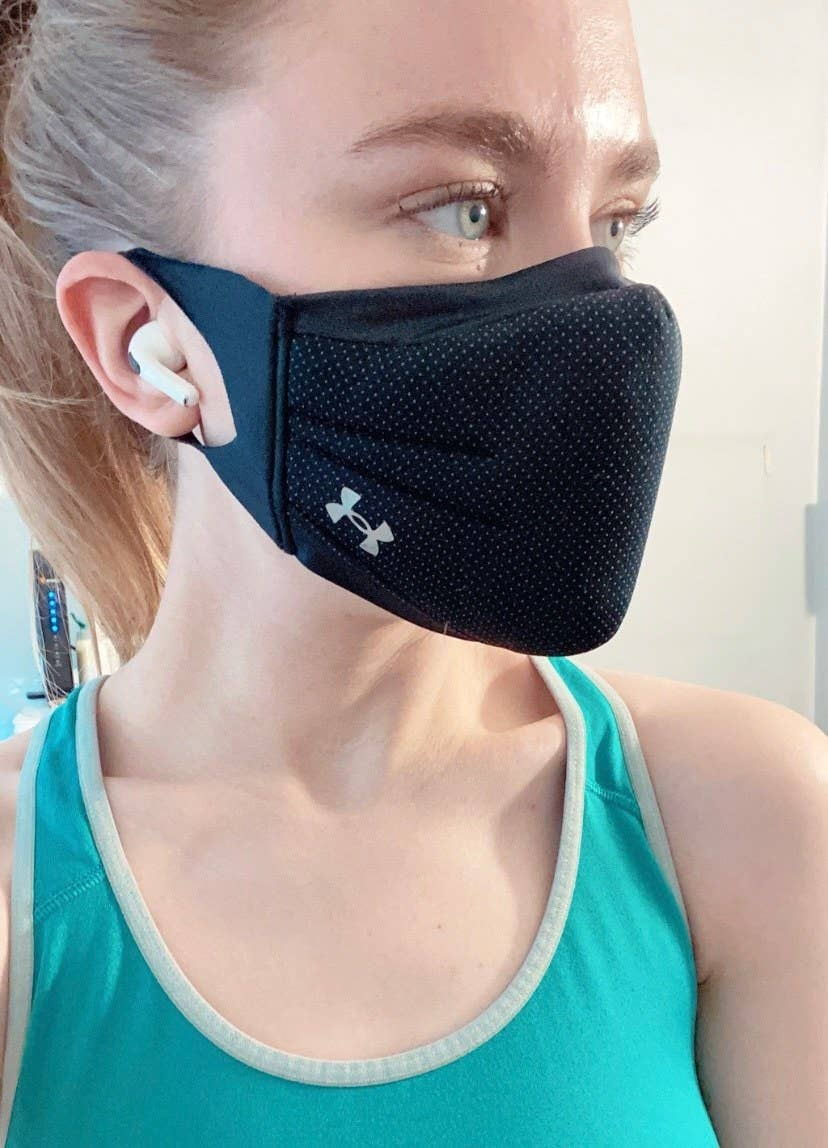earphone: (53, 253, 211, 439)
